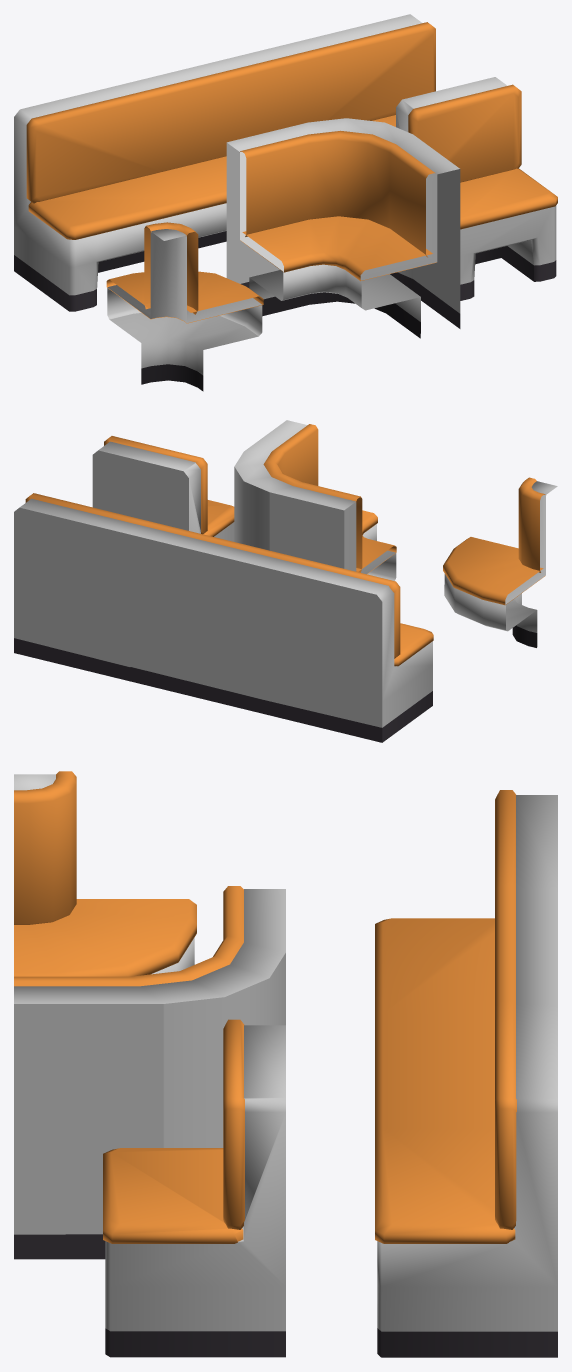
The model's file is DinerBooth.fbx.
3 renders of one model, top to bottom at view 1: azimuth 30°, elevation 25°; view 2: azimuth 150°, elevation 25°; view 3: azimuth 270°, elevation 25°, orthographic. The views are drawn at different scales.
Parts seen in each view (by area): view 1: BoothLIn, BoothUleft, BoothO, BoothI, BoothLOut, BoothUright; view 2: BoothUleft, BoothI, BoothUright, BoothLIn, BoothO, BoothLOut; view 3: BoothLIn, BoothUright, BoothO, BoothLOut, BoothI, BoothUleft.
Boxes of the visible parts, x1=… form: BoothLIn: x1=226, y1=118, x2=460, y2=338; BoothUleft: x1=14, y1=80, x2=198, y2=311; BoothO: x1=396, y1=77, x2=557, y2=300; BoothI: x1=141, y1=44, x2=308, y2=248; BoothLOut: x1=106, y1=222, x2=263, y2=391; BoothUright: x1=289, y1=14, x2=435, y2=126; BoothUleft: x1=266, y1=554, x2=433, y2=742; BoothI: x1=130, y1=520, x2=282, y2=714; BoothUright: x1=14, y1=493, x2=146, y2=681; BoothLIn: x1=234, y1=420, x2=396, y2=580; BoothO: x1=92, y1=436, x2=234, y2=541; BoothLOut: x1=443, y1=477, x2=557, y2=647; BoothLIn: x1=14, y1=886, x2=285, y2=1259; BoothUright: x1=375, y1=1001, x2=557, y2=1357; BoothO: x1=103, y1=1019, x2=285, y2=1357; BoothLOut: x1=14, y1=771, x2=196, y2=976; BoothI: x1=375, y1=886, x2=557, y2=1134; BoothUleft: x1=375, y1=790, x2=557, y2=1019.
Bounding box in the file's own units: 2.87 × 1.05 × 2.
